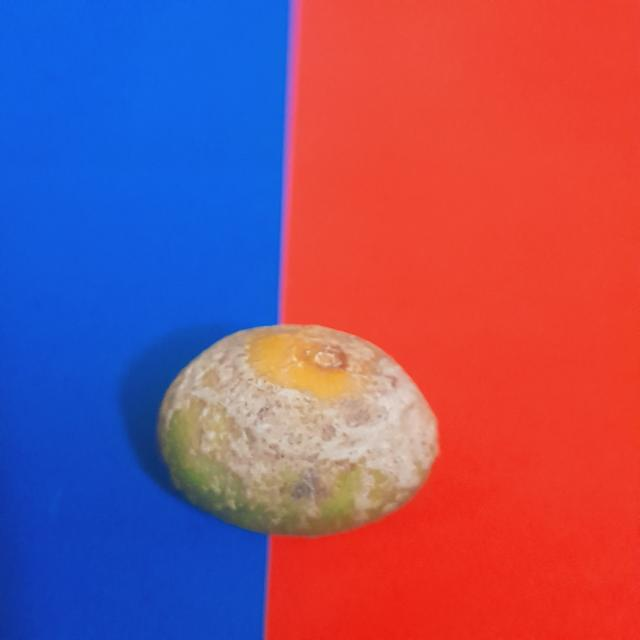thrips: (152, 322, 452, 544)
